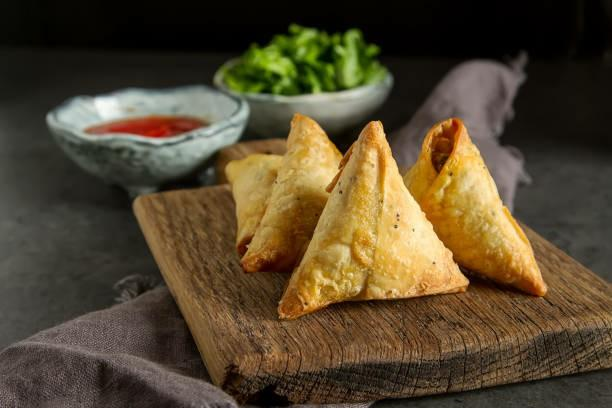Samosa: (275, 121, 471, 323), (406, 115, 548, 301), (237, 115, 350, 279), (221, 152, 288, 245)
